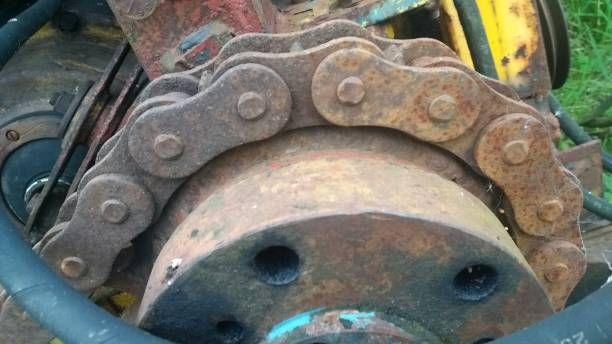automobile: (0, 0, 596, 344)
